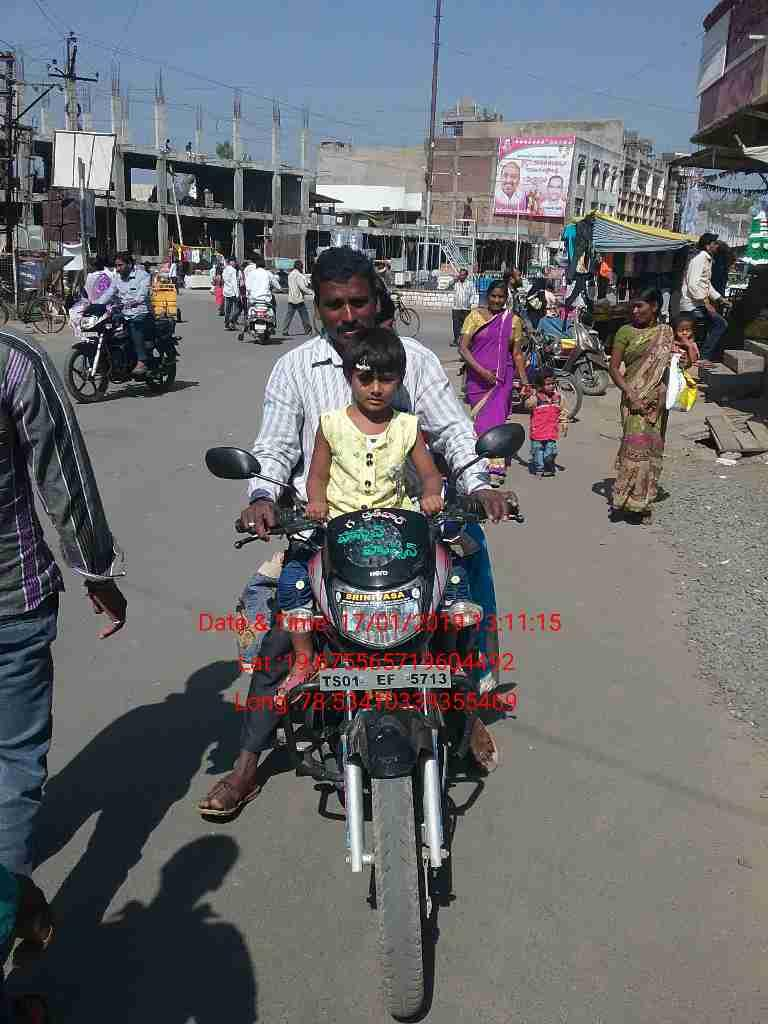plate: (315, 661, 457, 694), (73, 329, 99, 339)
